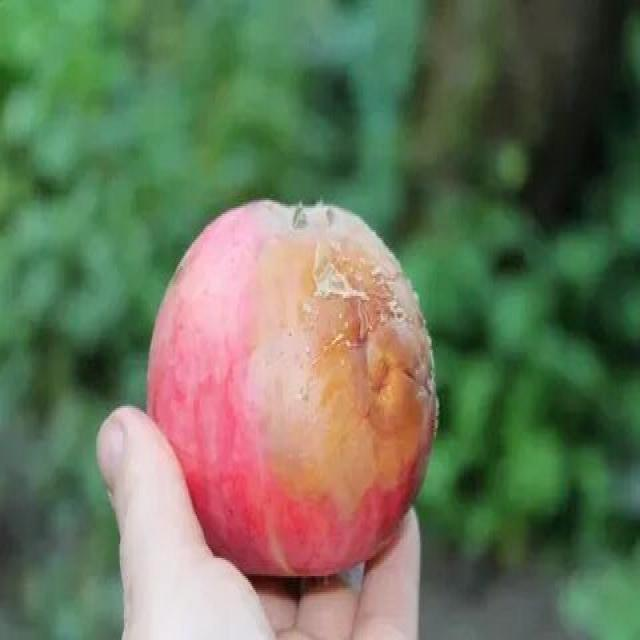Apple: (140, 192, 443, 582)
